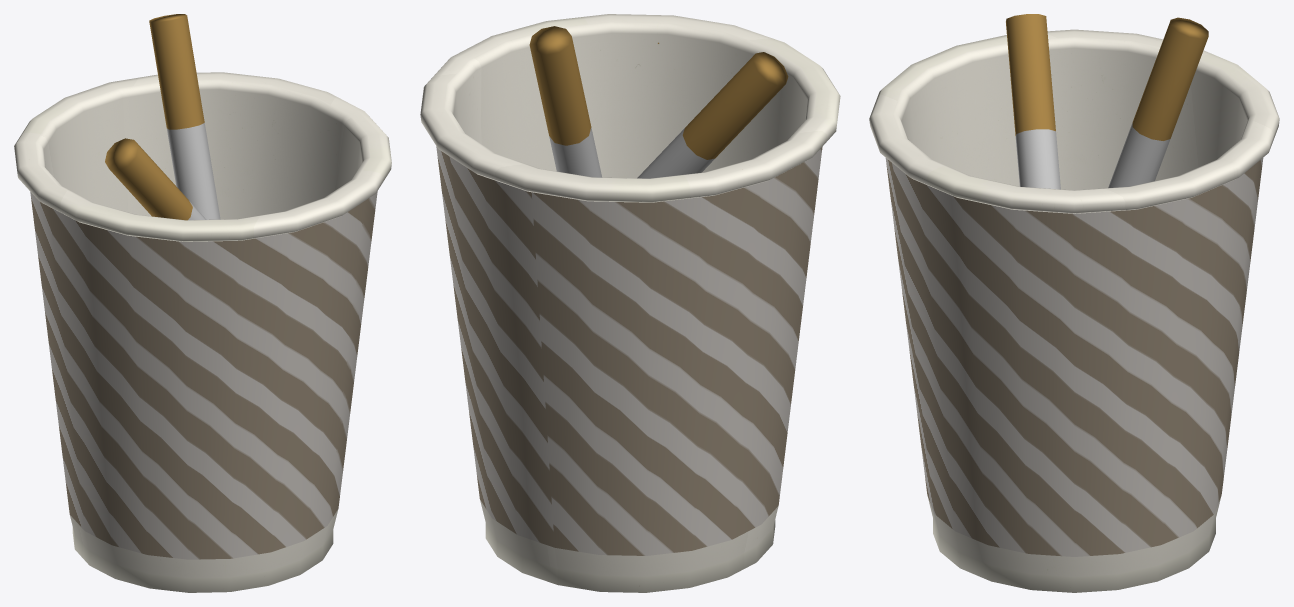
The model's file is Eden_ashtray.fbx.
The picture shows the model from 3 angles, left to right: view 1: azimuth 30°, elevation 25°; view 2: azimuth 150°, elevation 25°; view 3: azimuth 270°, elevation 25°; orthographic projection. The views are drawn at different scales.
Parts seen in each view (by area): view 1: pCylinder2, pCylinder3, pCylinder4; view 2: pCylinder2, pCylinder4, pCylinder3; view 3: pCylinder2, pCylinder3, pCylinder4.
Part boxes in pixels (x1,y1,x2,y2): pCylinder2: (14,72,391,592); pCylinder3: (149,14,220,219); pCylinder4: (105,138,206,220); pCylinder2: (420,14,840,592); pCylinder4: (637,52,788,178); pCylinder3: (529,26,602,177); pCylinder2: (869,29,1279,592); pCylinder3: (1108,17,1208,187); pCylinder4: (1006,14,1060,189).
Size of the model in its own units: 0.00322 by 0.0045 by 0.00322.
Materials: 5 (2 with a texture image).
